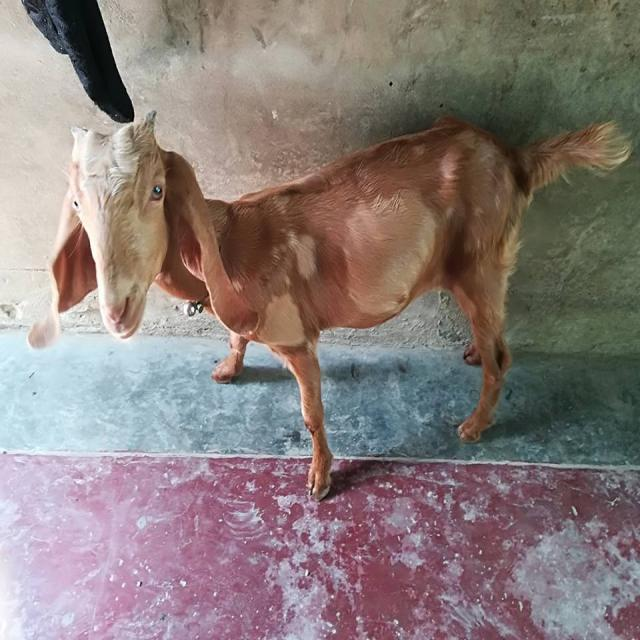Goat: (47, 107, 634, 501)
